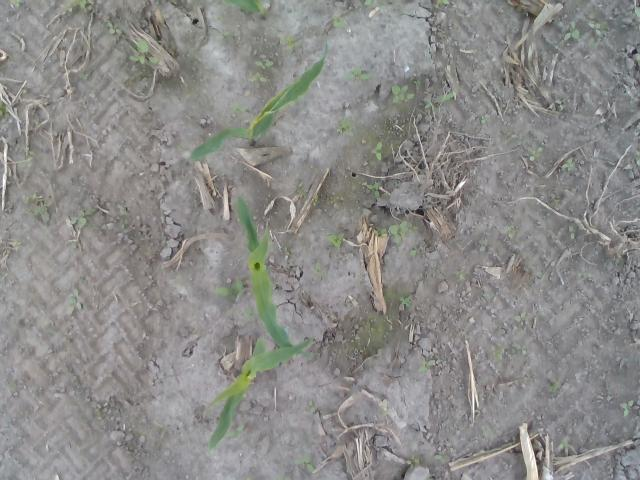Maize: (190, 38, 328, 162), (236, 194, 314, 358), (206, 336, 316, 452), (223, 0, 267, 19)
Weeds: (376, 221, 418, 248), (126, 37, 159, 65), (391, 80, 424, 105), (212, 276, 245, 301), (558, 20, 584, 48), (69, 207, 98, 229), (588, 20, 608, 48), (60, 0, 94, 16), (32, 196, 50, 224), (290, 453, 316, 472), (343, 63, 370, 81), (64, 287, 82, 314), (225, 419, 248, 439), (101, 14, 122, 33), (619, 399, 640, 417), (336, 116, 354, 136), (311, 260, 327, 281), (325, 232, 344, 249), (398, 294, 414, 314), (362, 181, 380, 198), (330, 14, 348, 30), (527, 146, 545, 162), (286, 34, 304, 50), (416, 358, 434, 374), (405, 454, 423, 470), (371, 139, 384, 160), (22, 146, 34, 168), (230, 102, 252, 114), (488, 344, 504, 360), (547, 376, 561, 393), (256, 57, 274, 70), (248, 72, 266, 85), (560, 156, 574, 172), (304, 400, 318, 416), (432, 452, 449, 465), (0, 98, 10, 118), (423, 95, 434, 113), (574, 271, 592, 282), (242, 304, 254, 320), (214, 31, 235, 40), (568, 222, 578, 240), (120, 215, 130, 233), (511, 311, 528, 321), (454, 270, 466, 284), (434, 0, 450, 10), (510, 343, 526, 353), (365, 0, 380, 10), (436, 94, 454, 102), (480, 113, 492, 125), (504, 224, 513, 240), (272, 473, 291, 480), (559, 438, 570, 450), (10, 0, 24, 9), (295, 182, 306, 192), (408, 247, 418, 257), (634, 152, 640, 168), (633, 6, 640, 19), (535, 271, 545, 280), (312, 198, 320, 208), (15, 240, 23, 250), (78, 72, 88, 80), (383, 314, 390, 322)
